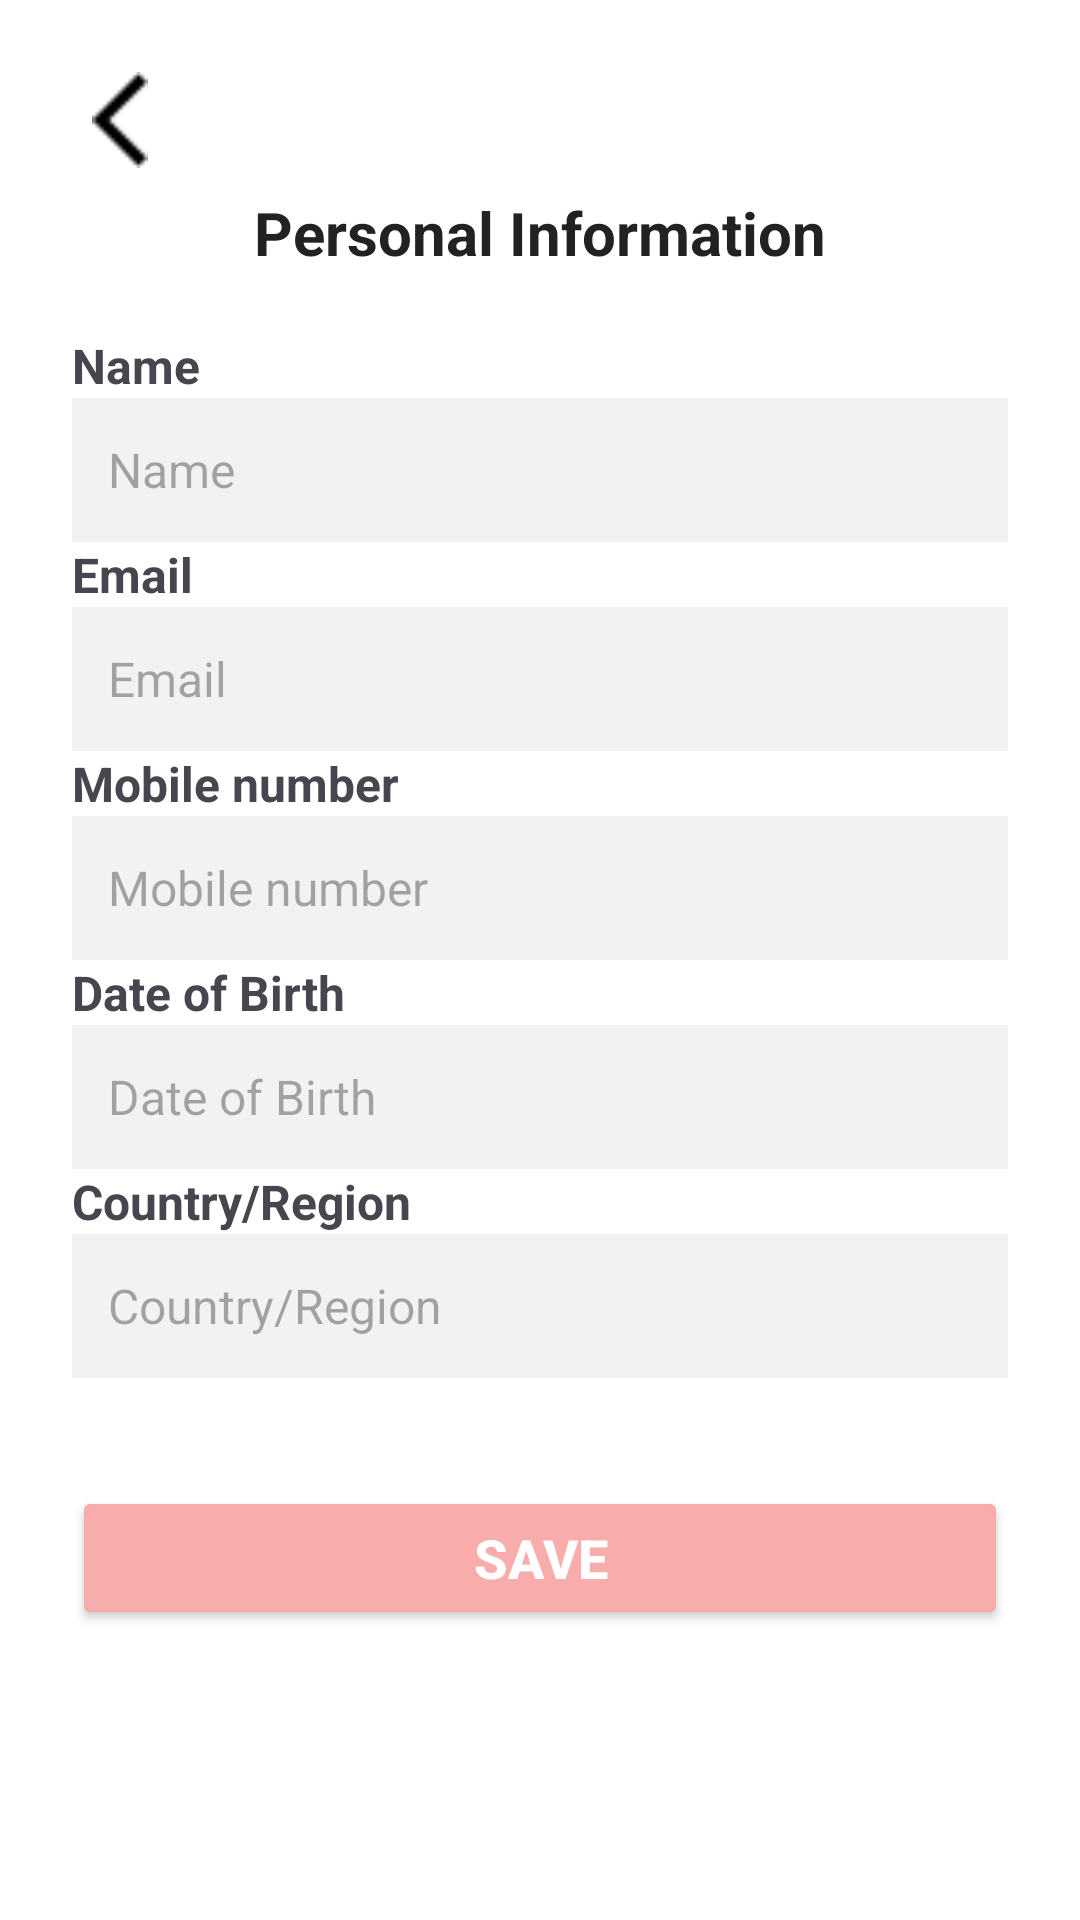

Named icons in this screenshot (1080*1920) and their bounding boxes, (x1, y1, x2, y2):
Back: (92, 72, 148, 168)
